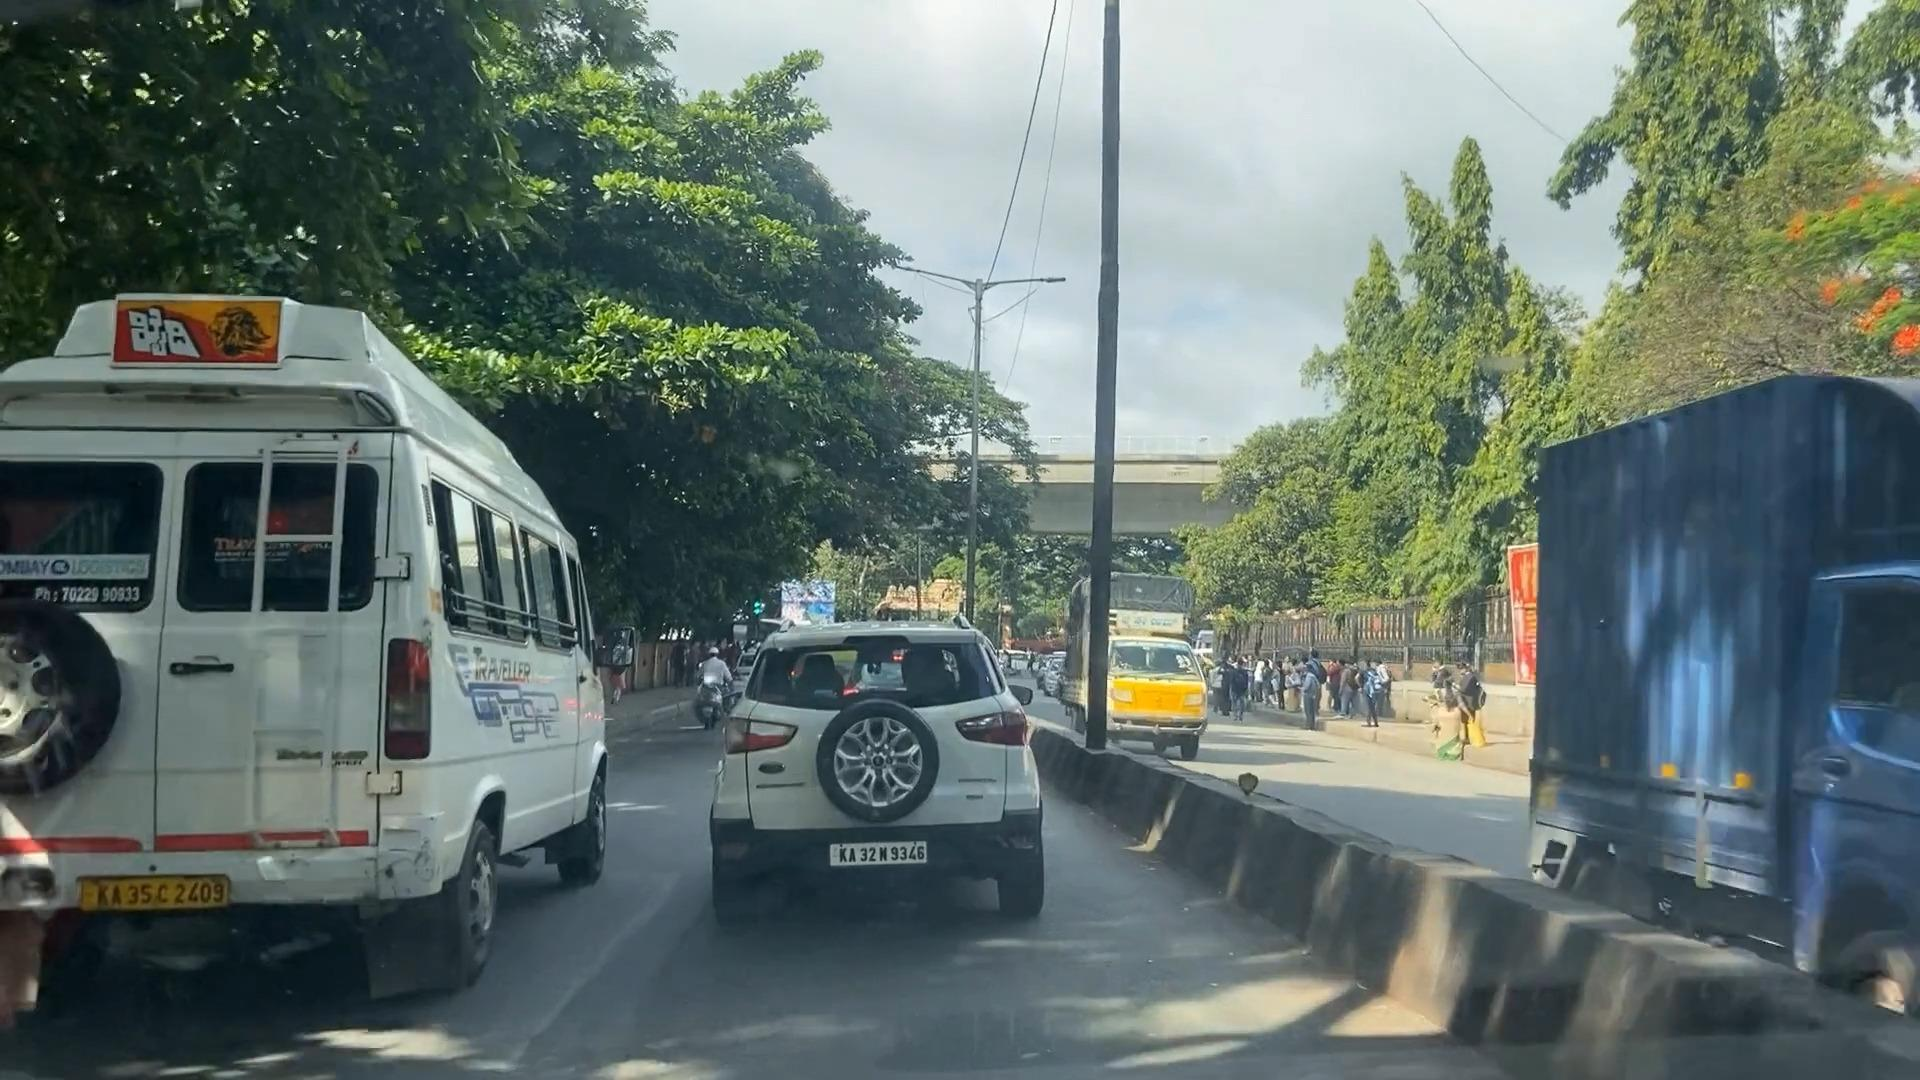HMV: (50, 293, 609, 1042)
LMV: (725, 613, 1046, 936)
